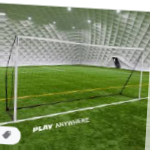goals: (2, 33, 146, 127)
